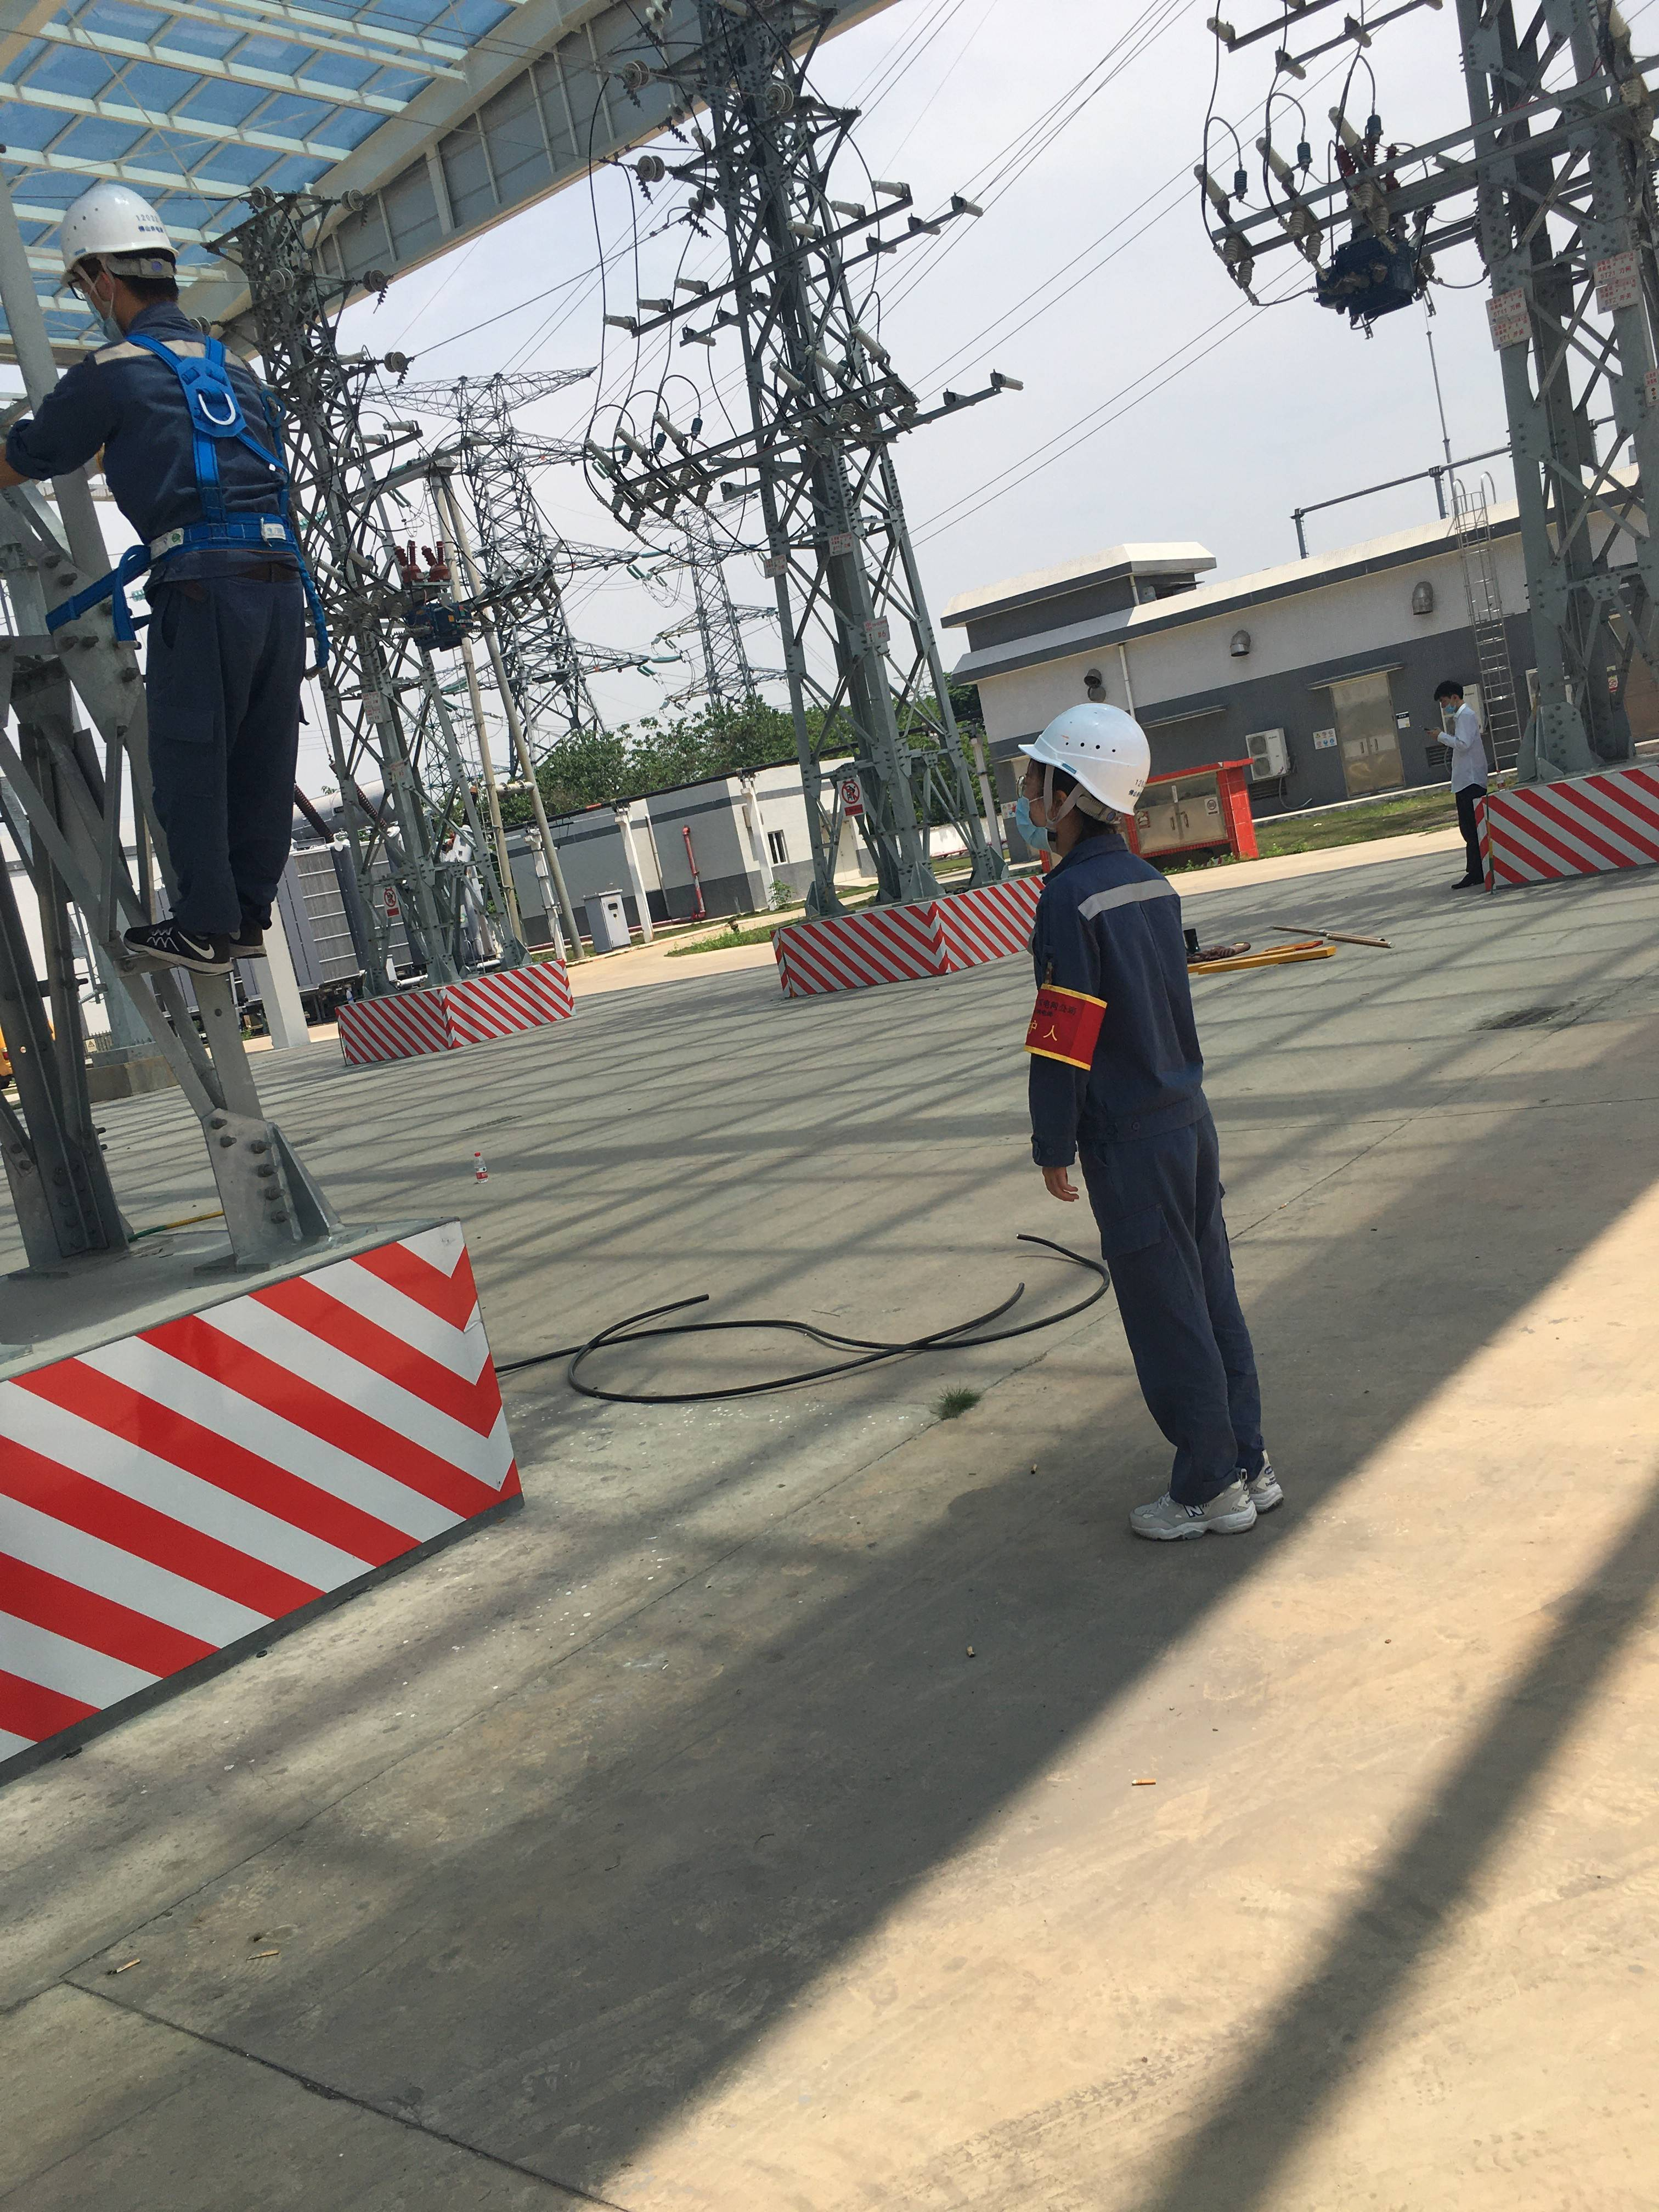downsuit: (132, 587, 329, 927), (1080, 1172, 1272, 1493)
upsuit: (23, 312, 307, 559), (1016, 833, 1230, 1158)
